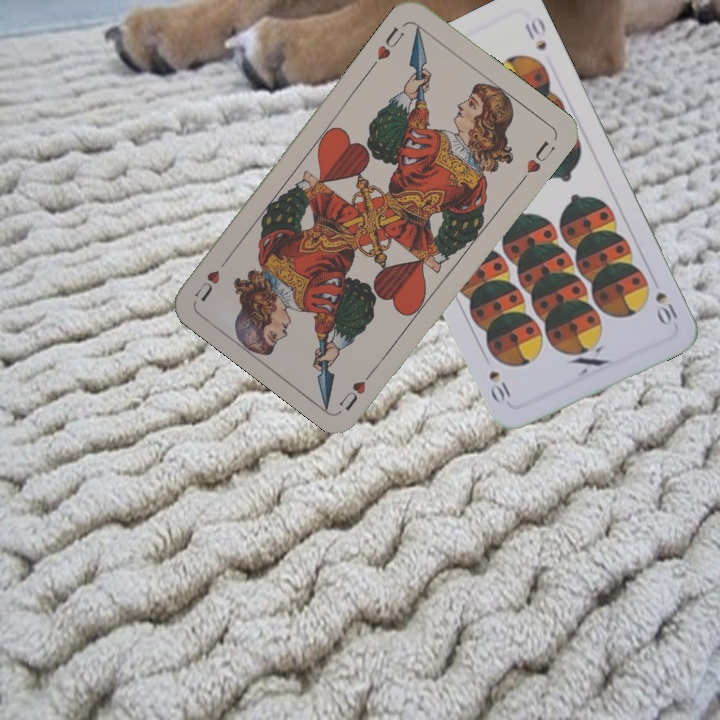HU: (334, 363, 380, 413), (367, 23, 407, 71)
S10: (651, 288, 681, 326)
